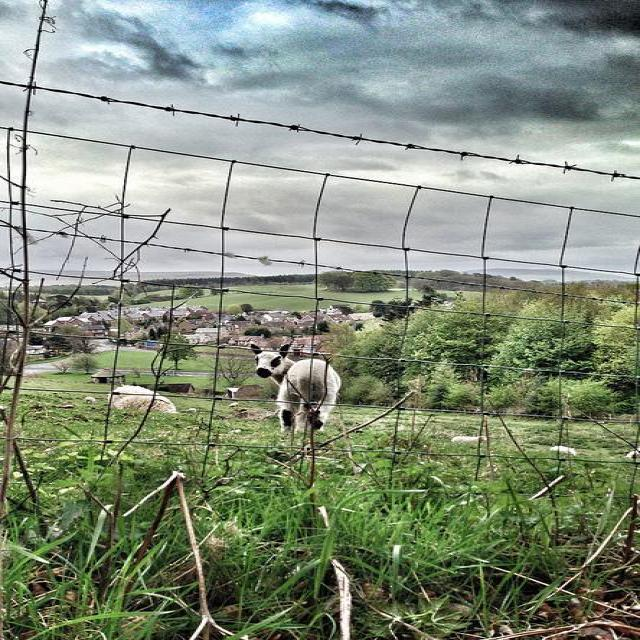Sheep: (250, 342, 344, 437)
